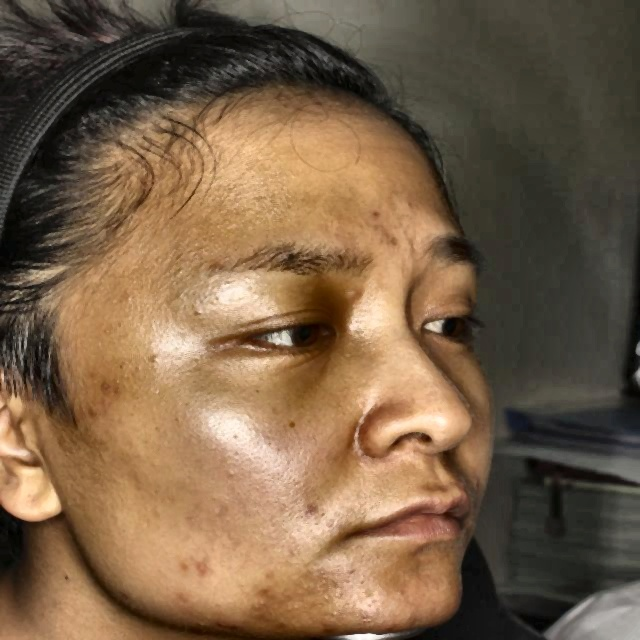pustule: (93, 373, 133, 404), (168, 585, 204, 610), (376, 225, 407, 254), (180, 552, 213, 578), (368, 204, 408, 224), (256, 574, 290, 594)
